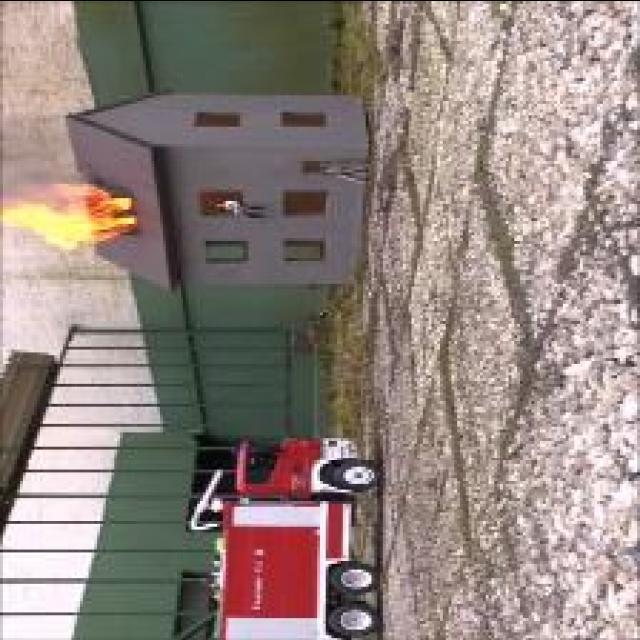Fire: (3, 183, 137, 246)
